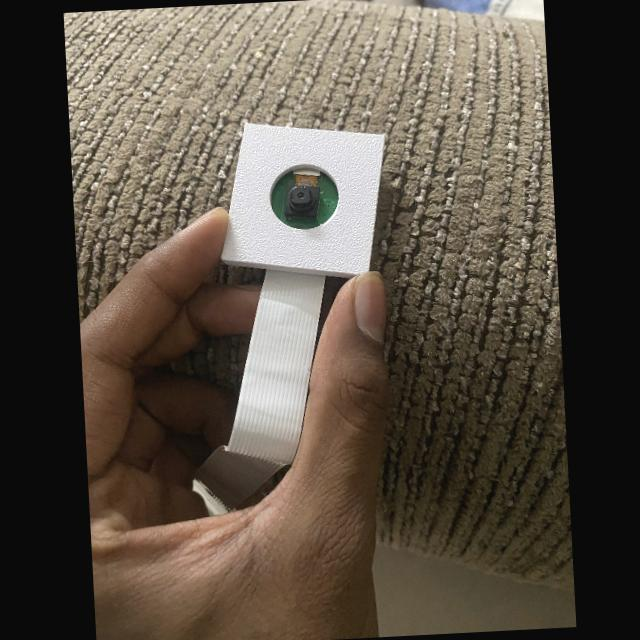RASPBERY PI CAM ENCLOSURE: (214, 116, 392, 285)
